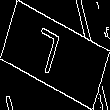L_S: (38, 26, 72, 84)
